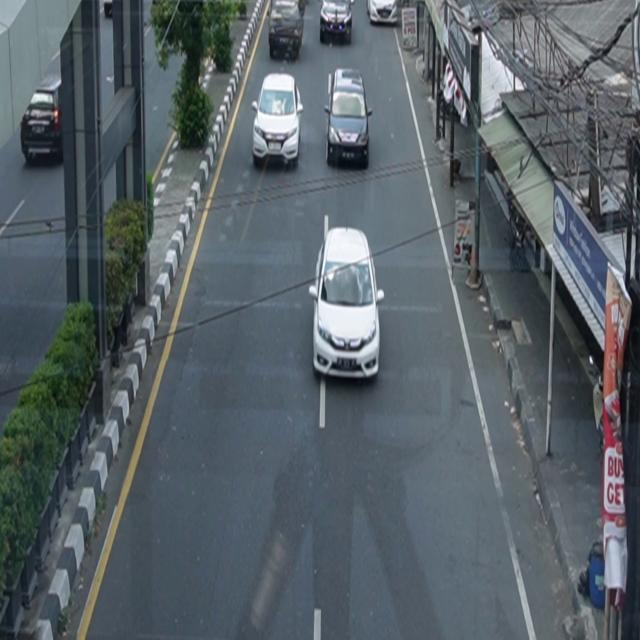car: (310, 226, 386, 382), (252, 73, 304, 169), (325, 68, 373, 169), (21, 74, 64, 166), (268, 1, 305, 61), (320, 1, 354, 45), (367, 1, 398, 26)
